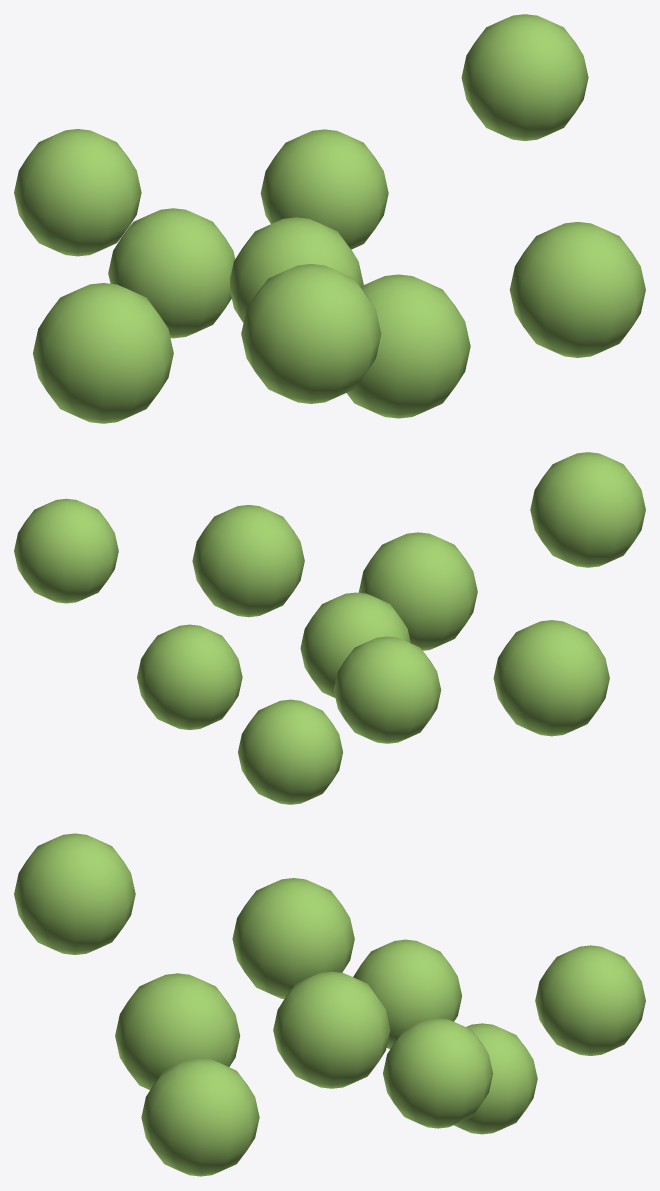
File: GreenPeas.fbx
3 renders of one model, top to bottom at view 1: azimuth 30°, elevation 25°; view 2: azimuth 150°, elevation 25°; view 3: azimuth 270°, elevation 25°, orthographic. The views are drawn at different scales.
Parts seen in each view (by area): view 1: GreenPeas; view 2: GreenPeas; view 3: GreenPeas.
Boxes of the visible parts, x1=… form: GreenPeas: x1=14, y1=14, x2=645, y2=423; GreenPeas: x1=14, y1=452, x2=645, y2=804; GreenPeas: x1=14, y1=833, x2=645, y2=1176.
Bounding box in the file's own units: 0.0461 × 0.0156 × 0.0468.
